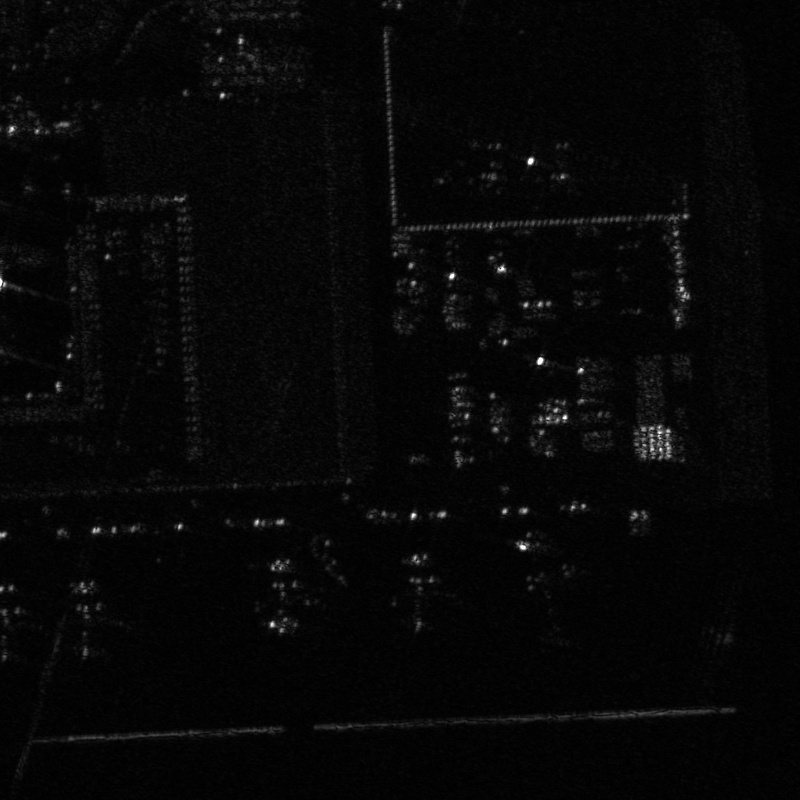Boeing737: (511, 530, 588, 642), (48, 578, 131, 662), (384, 550, 456, 640)
other: (250, 557, 324, 638)
